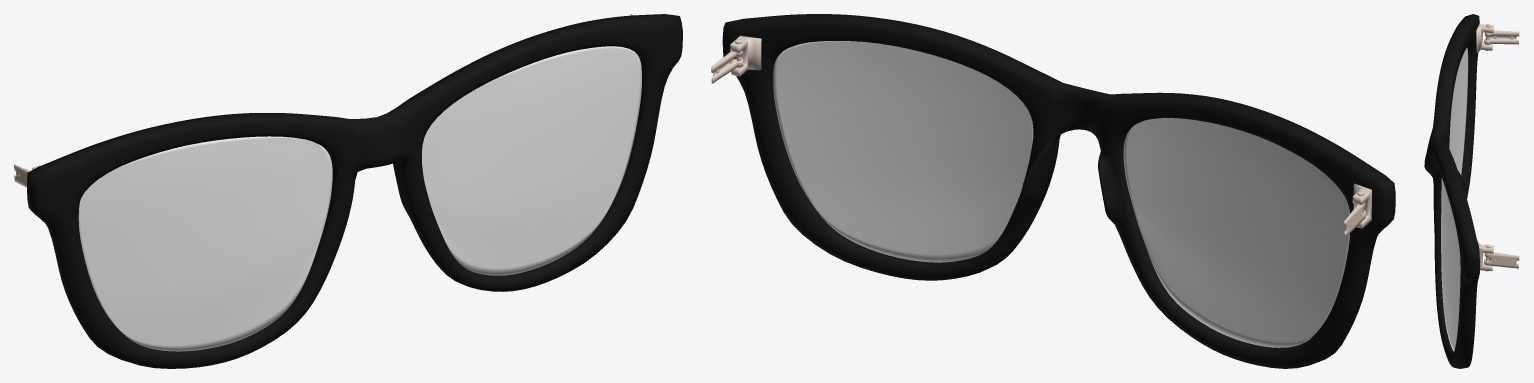
File: plastic_sunglasses_face.glb
The picture shows the model from 3 angles, left to right: view 1: azimuth 30°, elevation 25°; view 2: azimuth 150°, elevation 25°; view 3: azimuth 270°, elevation 25°; orthographic projection. The views are drawn at different scales.
Parts seen in each view (by area): view 1: Circle.005_5, Circle_0; view 2: Circle.005_5, Circle_0, Circle.002_2, Circle.003_3; view 3: Circle_0, Circle.005_5, Circle.003_3, Circle.002_2.
Boxes of the visible parts, x1,y1,x2,y2 form: Circle.005_5: [78, 46, 641, 351]; Circle_0: [27, 14, 682, 368]; Circle.005_5: [773, 41, 1349, 347]; Circle_0: [722, 14, 1395, 368]; Circle.002_2: [730, 35, 1371, 228]; Circle.003_3: [711, 51, 1365, 237]; Circle_0: [1424, 14, 1479, 368]; Circle.005_5: [1441, 48, 1468, 351]; Circle.003_3: [1484, 30, 1519, 268]; Circle.002_2: [1476, 24, 1493, 271].
Bounding box in the file's own units: 0.1399 × 0.0501 × 0.0238.
